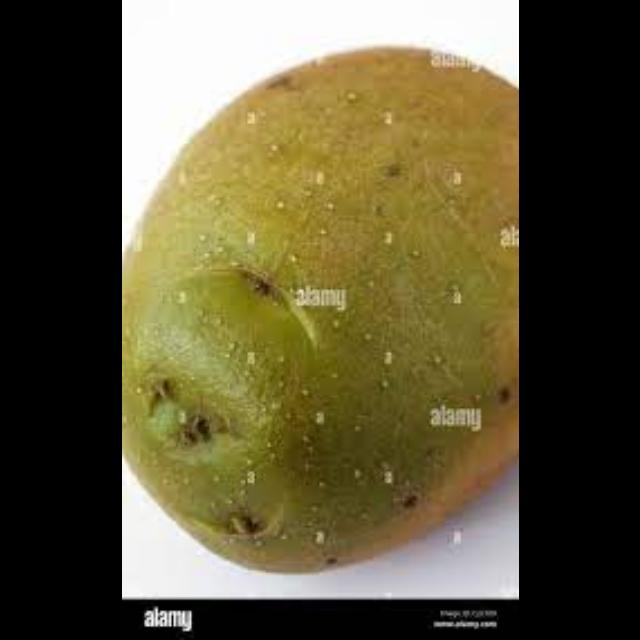Defected potato: (121, 28, 518, 580)
